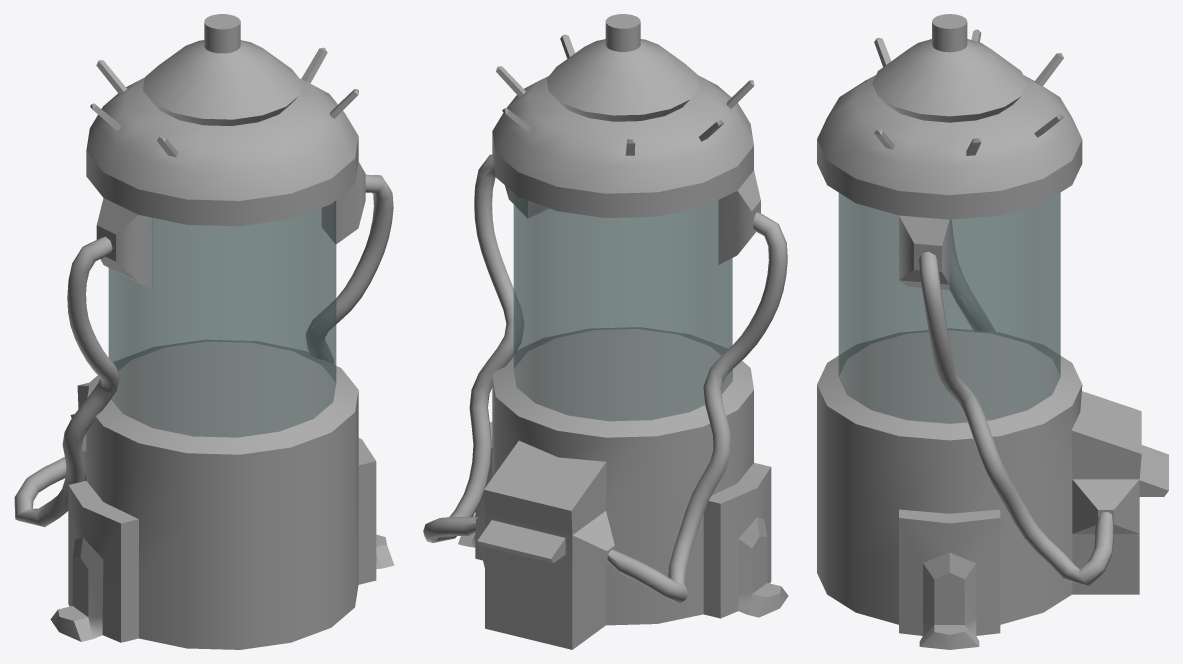
File: Shrimp_Tank.fbx
3 renders of one model, left to right at view 1: azimuth 30°, elevation 25°; view 2: azimuth 150°, elevation 25°; view 3: azimuth 270°, elevation 25°, orthographic. The views are drawn at different scales.
Parts seen in each view (by area): view 1: Tube; view 2: Tube; view 3: Tube.
Boxes of the visible parts, box(x1,y1,x2,y2) form: Tube: box(14, 14, 394, 649); Tube: box(423, 14, 788, 649); Tube: box(817, 14, 1168, 649).
Size of the model in its own units: 2.18 by 3.64 by 2.11.
